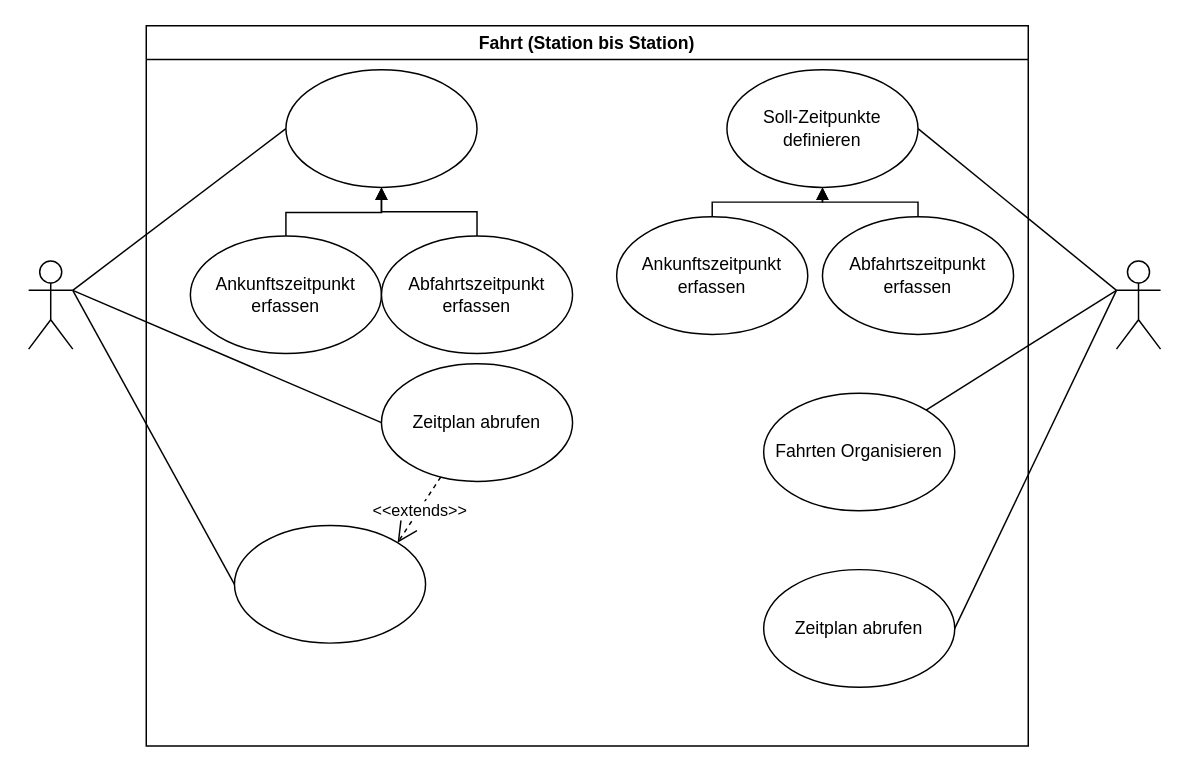
This 1204x772 diagram has some shape labels left out. The box of each missing label's shape, as (x1, y1, x2, y2) in pixels:
Disponent: (1115, 259, 1161, 349)
Fahrer: (27, 259, 73, 349)
Fahrzeug nachschauen: (233, 524, 426, 643)
Ist-Zeitpunkte erfassen: (284, 68, 477, 187)
